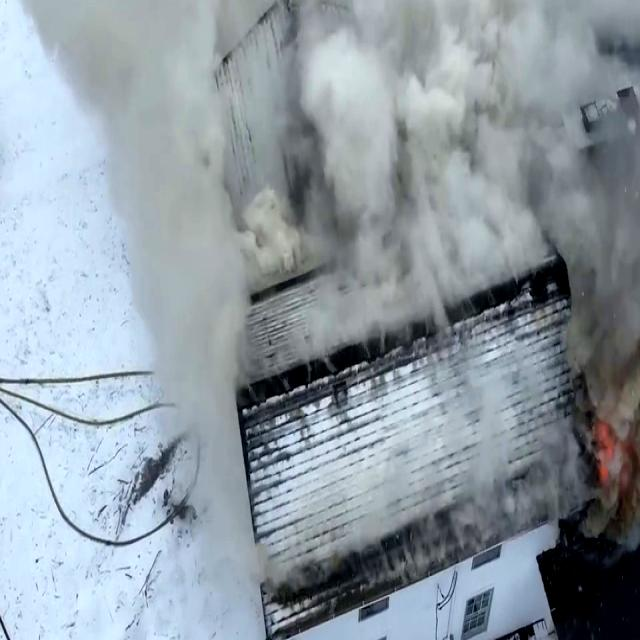smoke: (325, 0, 640, 261)
